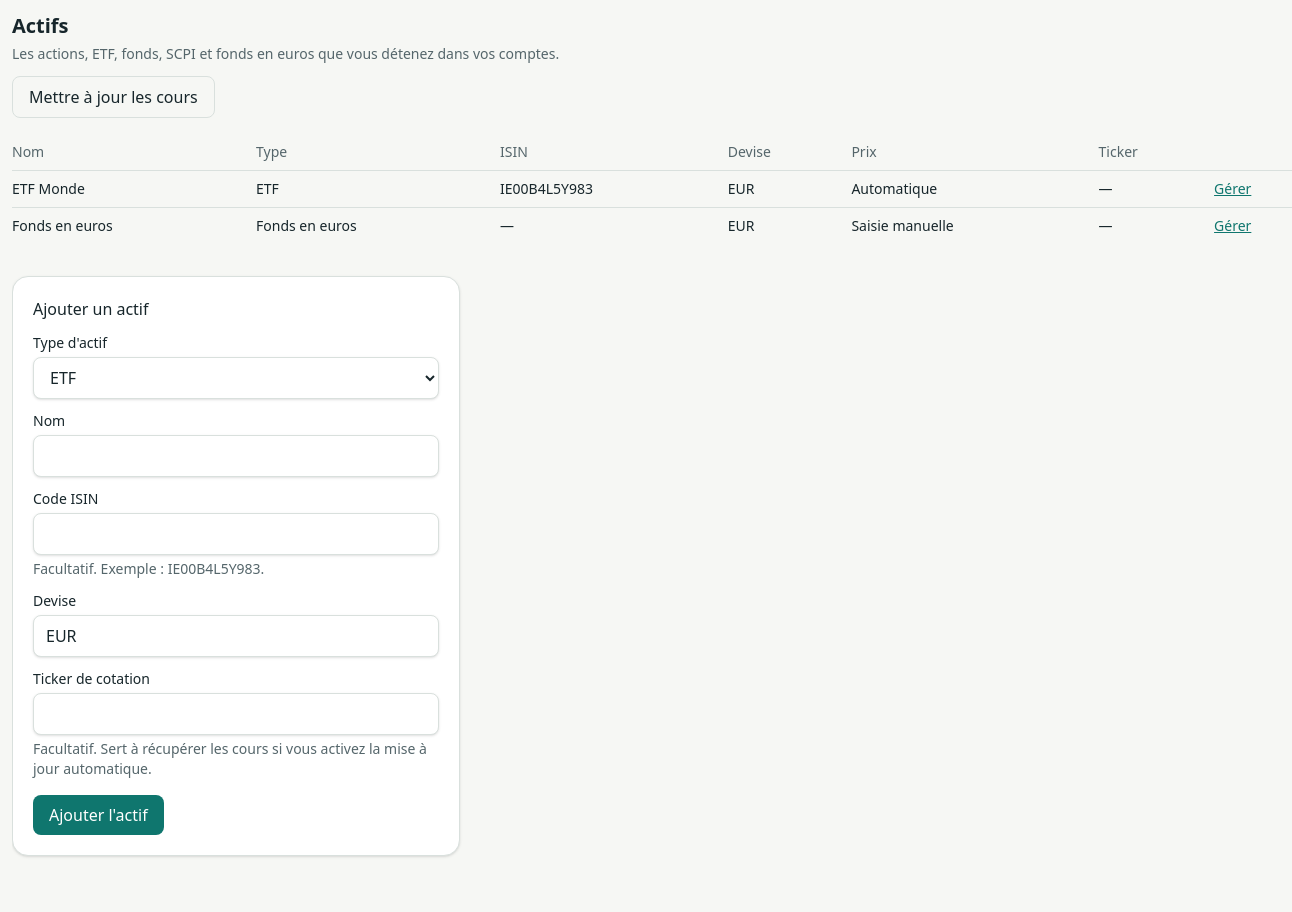
Test case: création › exige un nom
The image size is (1292, 912).
Expected: the table named "Actifs" is shown, [12,134,1291,244]
Click the button "Ajouter l'actif": (98, 815) [33,795,164,835]
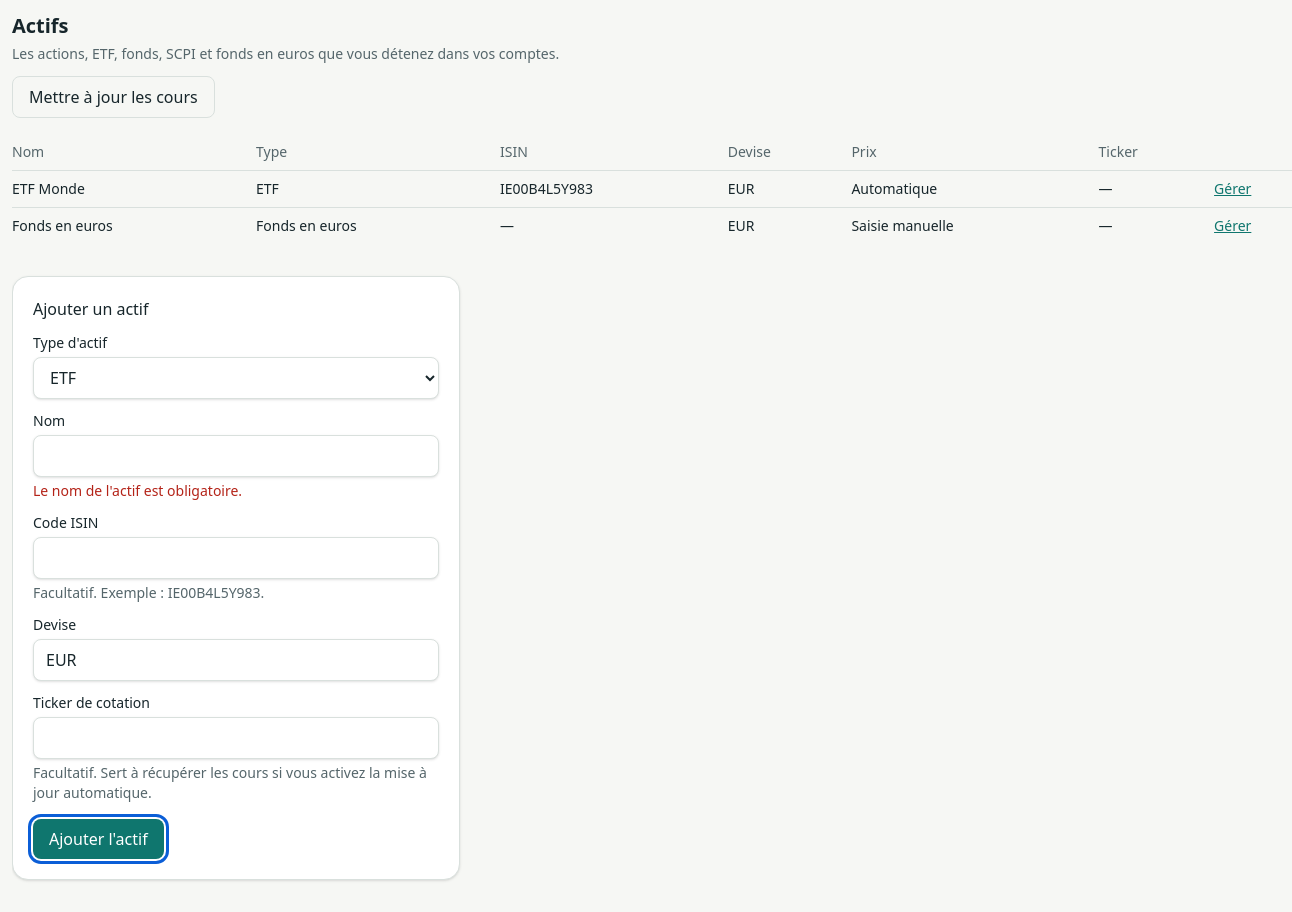
Now the text "Le nom de l'actif est obligatoire." is shown, box [33,481,242,500]
